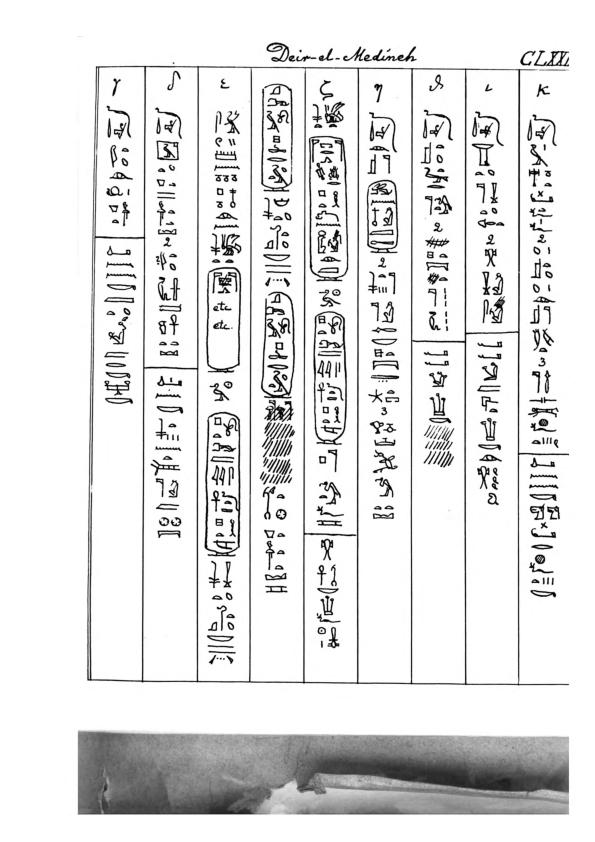circle: (308, 135, 349, 284), (203, 410, 242, 559), (312, 308, 348, 447), (255, 81, 296, 195), (205, 266, 243, 374), (261, 291, 295, 401), (365, 179, 399, 255)
